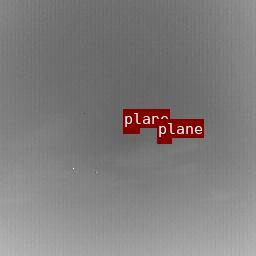plane: (123, 128, 139, 133), (157, 138, 171, 143)
